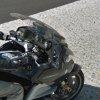Motorcycle: (3, 18, 86, 100)
